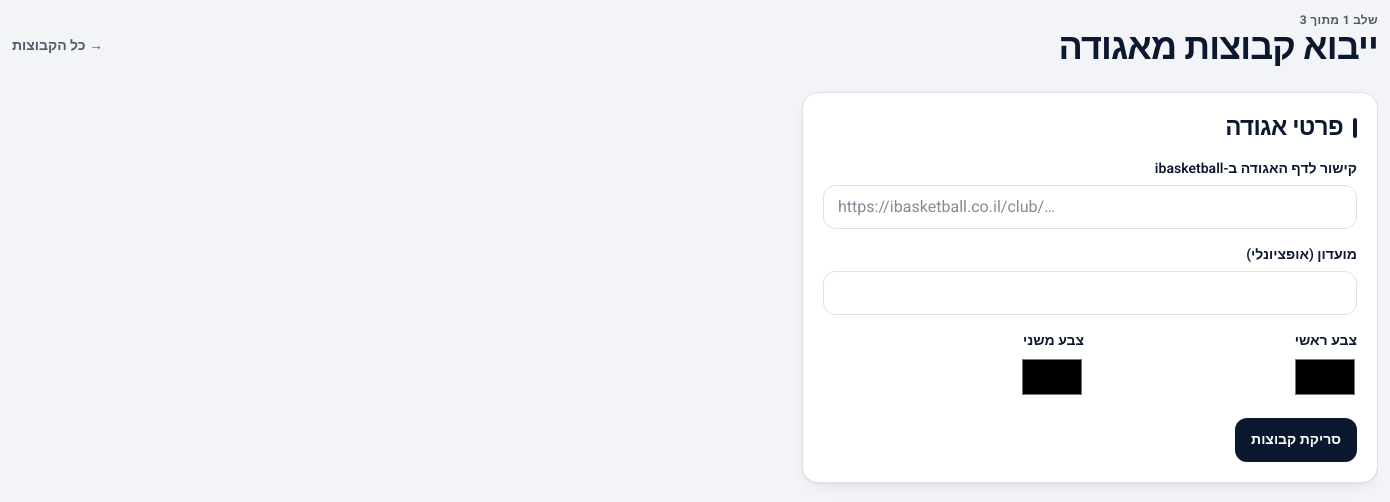
Test: AdminClubImportView › shows the empty state when every club team already exists
Type "https://ibasketball.co.il/club/3901-2/" into the field with id "club-url" at (1090, 207), box [823,185,1357,229]
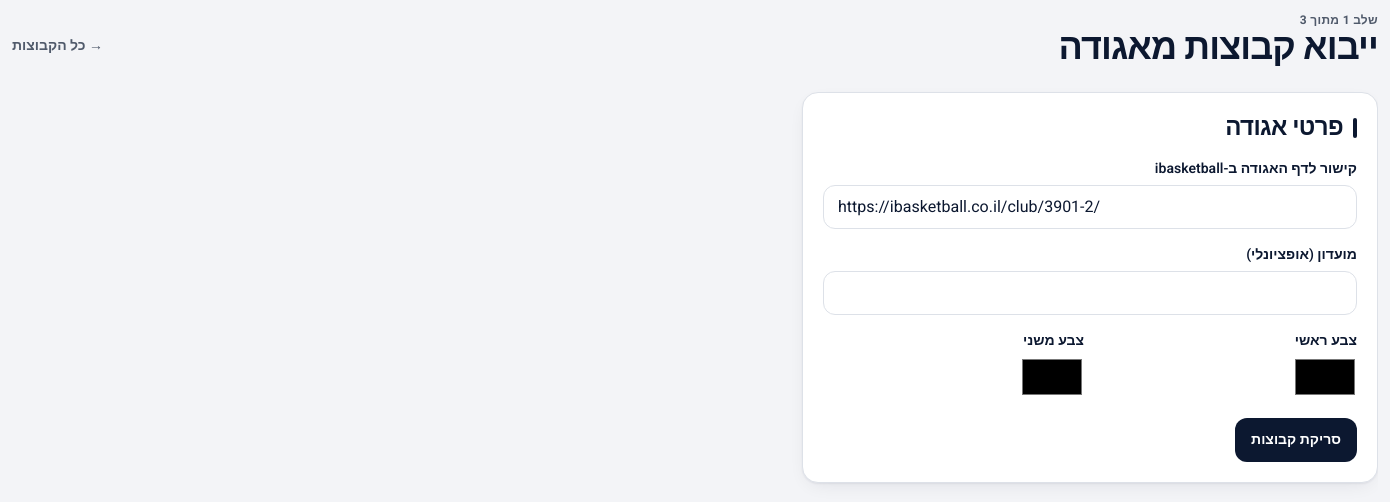
Type "#112233" into the colour field with id "club-primary-color" at (1325, 377), box [1293,355,1357,399]
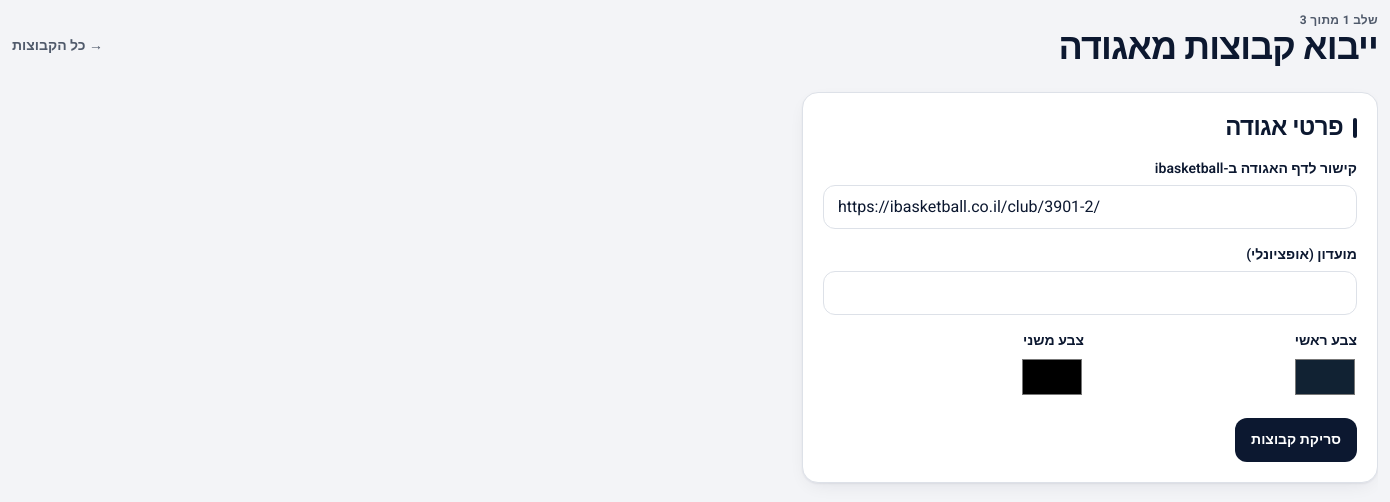
Type "#445566" into the colour field with id "club-secondary-color" at (1052, 377), box [1020,355,1084,399]
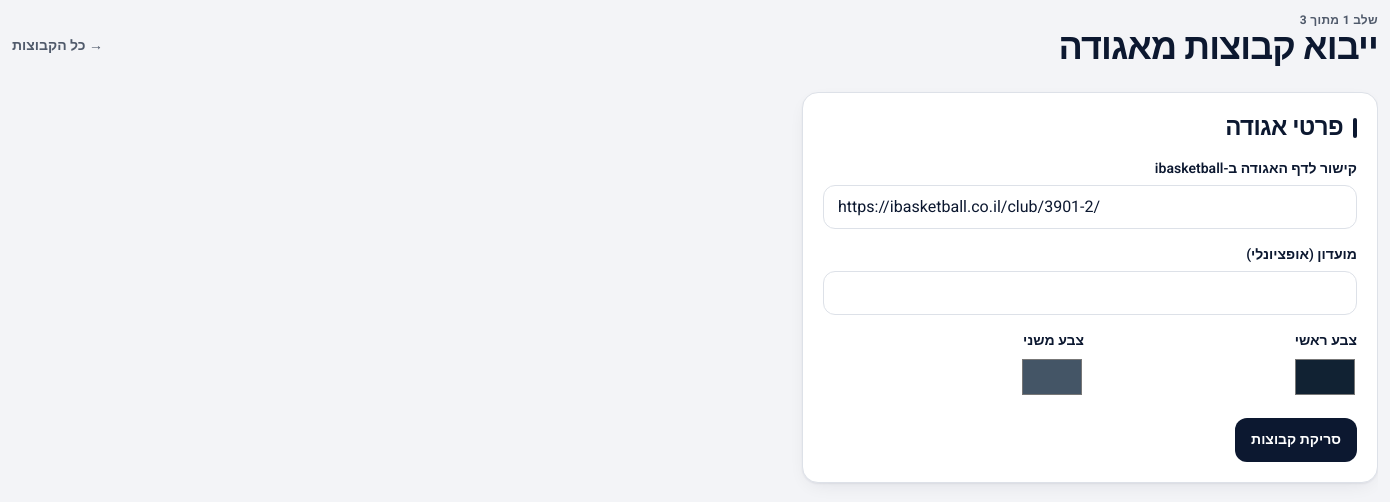
Submit the form, box [802,92,1378,483]
Wait 3000 ms
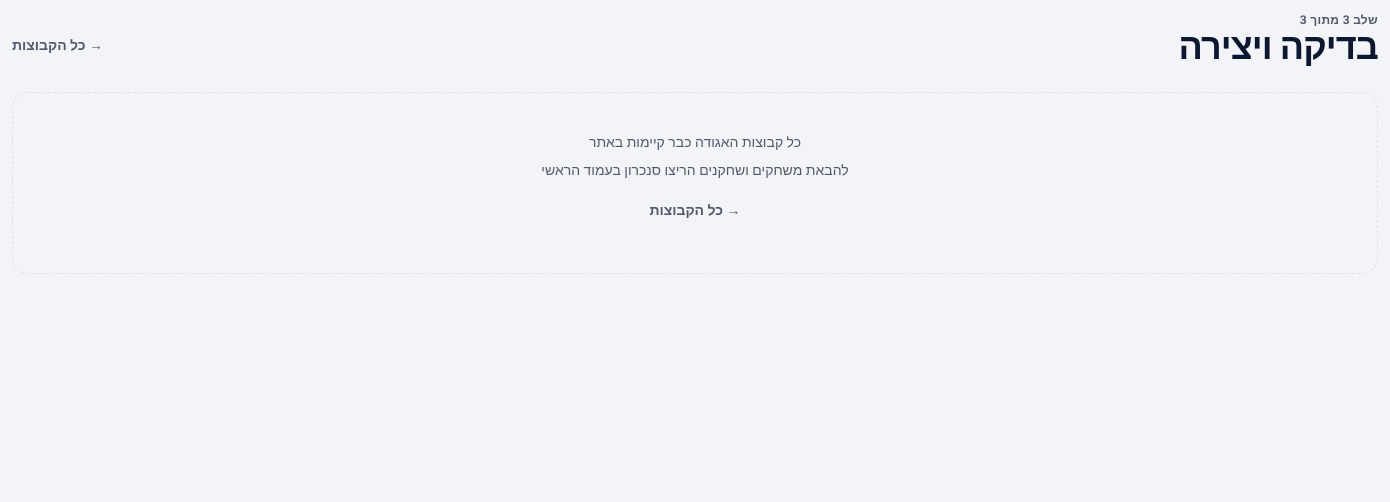
Check: the element with class "empty-state" shows "כבר קיימות", box [589,132,801,153]
